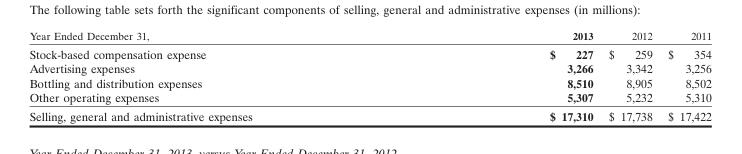table: (28, 28, 710, 123)
table column: (28, 28, 400, 123), (400, 28, 600, 123), (600, 28, 659, 123), (659, 28, 710, 123)
table column header: (28, 28, 710, 44)
table row: (28, 44, 710, 61), (28, 89, 710, 106), (28, 106, 710, 123), (28, 28, 710, 44), (28, 61, 710, 75), (28, 75, 710, 89)
